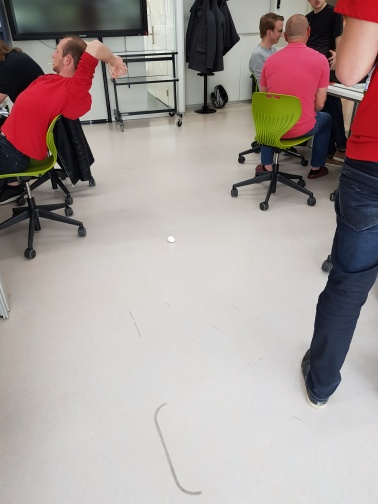egg: (166, 232, 177, 245)
